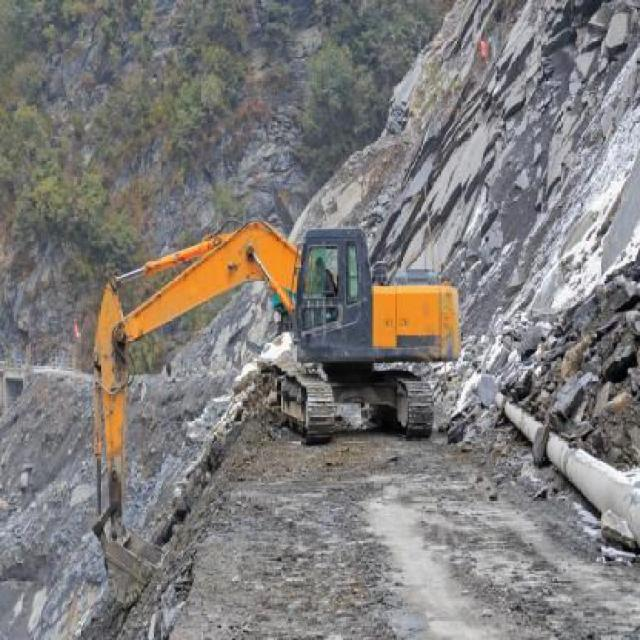Excavator: (69, 208, 465, 601)
